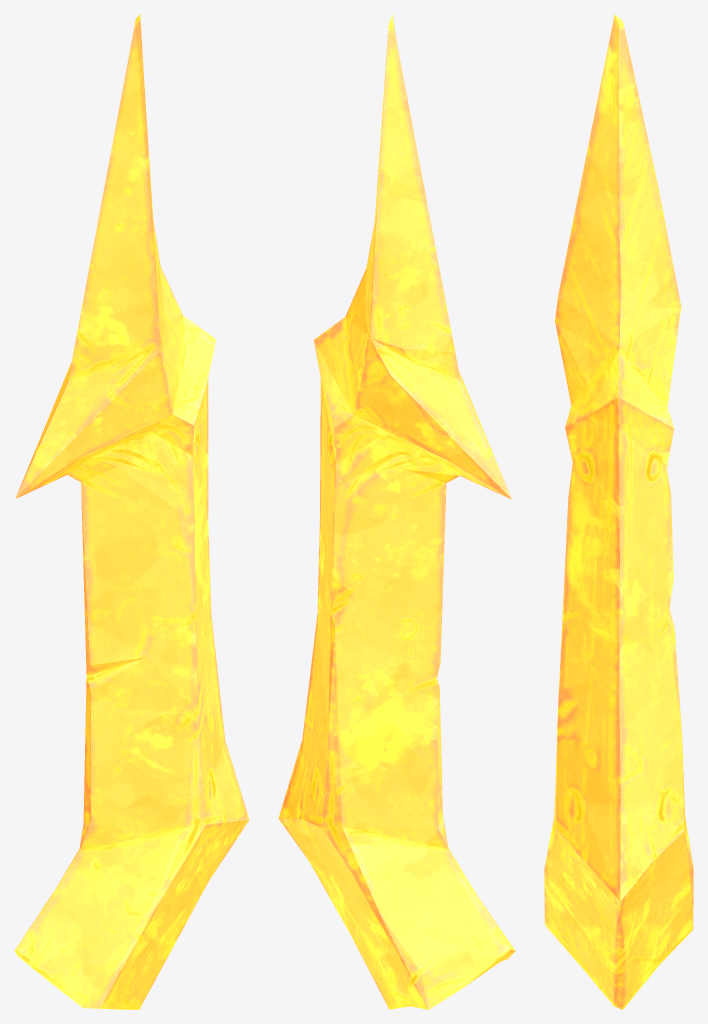
File: FSpikeAHalf.fbx
3 renders of one model, left to right at view 1: azimuth 30°, elevation 25°; view 2: azimuth 150°, elevation 25°; view 3: azimuth 270°, elevation 25°, orthographic.
Visible parts, largest first — view 1: HL_Fortress_Spike_A_Half_A.mo; view 2: HL_Fortress_Spike_A_Half_A.mo; view 3: HL_Fortress_Spike_A_Half_A.mo.
Boxes of the visible parts, left/top/right/bottom form: HL_Fortress_Spike_A_Half_A.mo: left=14, top=14, right=249, bottom=1009; HL_Fortress_Spike_A_Half_A.mo: left=278, top=14, right=515, bottom=1009; HL_Fortress_Spike_A_Half_A.mo: left=544, top=14, right=693, bottom=1009.
Bounding box in the file's own units: 224 × 913 × 124.
